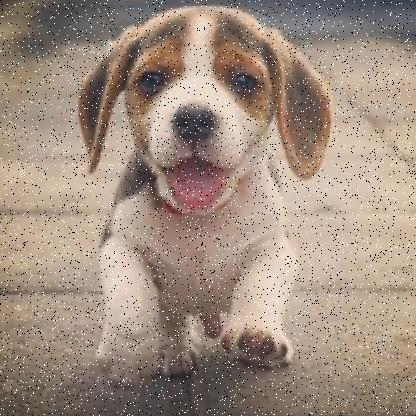dog: (80, 0, 335, 382)
